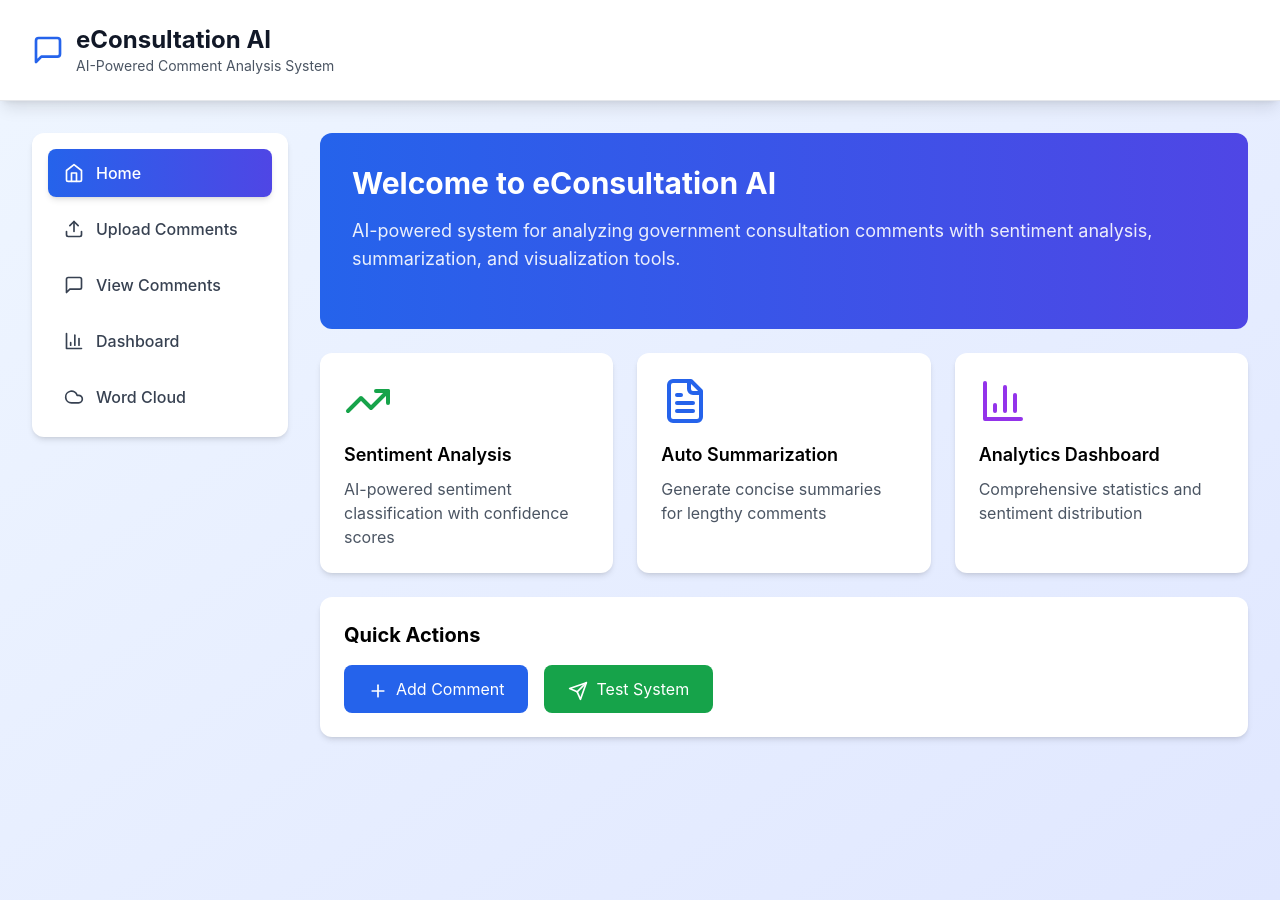
Test: Functionality Preservation Tests › Core Application Features › should preserve complete comment processing workflow
// Submit a test comment
Click the button "Test System" at (629, 689), box [544,665,713,713]
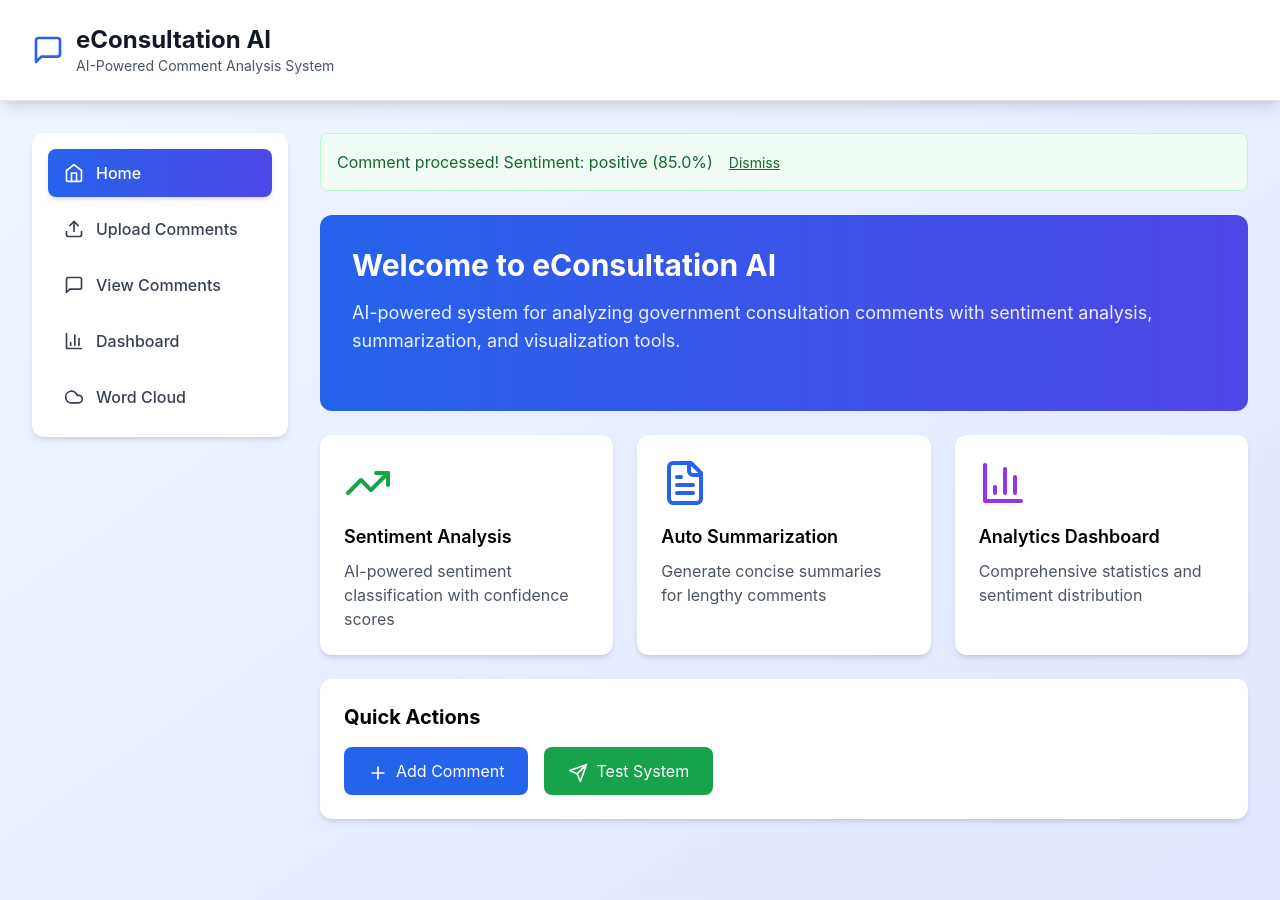
Expected: the text "Comment processed! Sentiment: positive (85.0%) Dismiss" is shown, [320,133,1248,191]
// Navigate to comments page and load comments
Click the button "View Comments" at (160, 285), box [48,261,272,309]
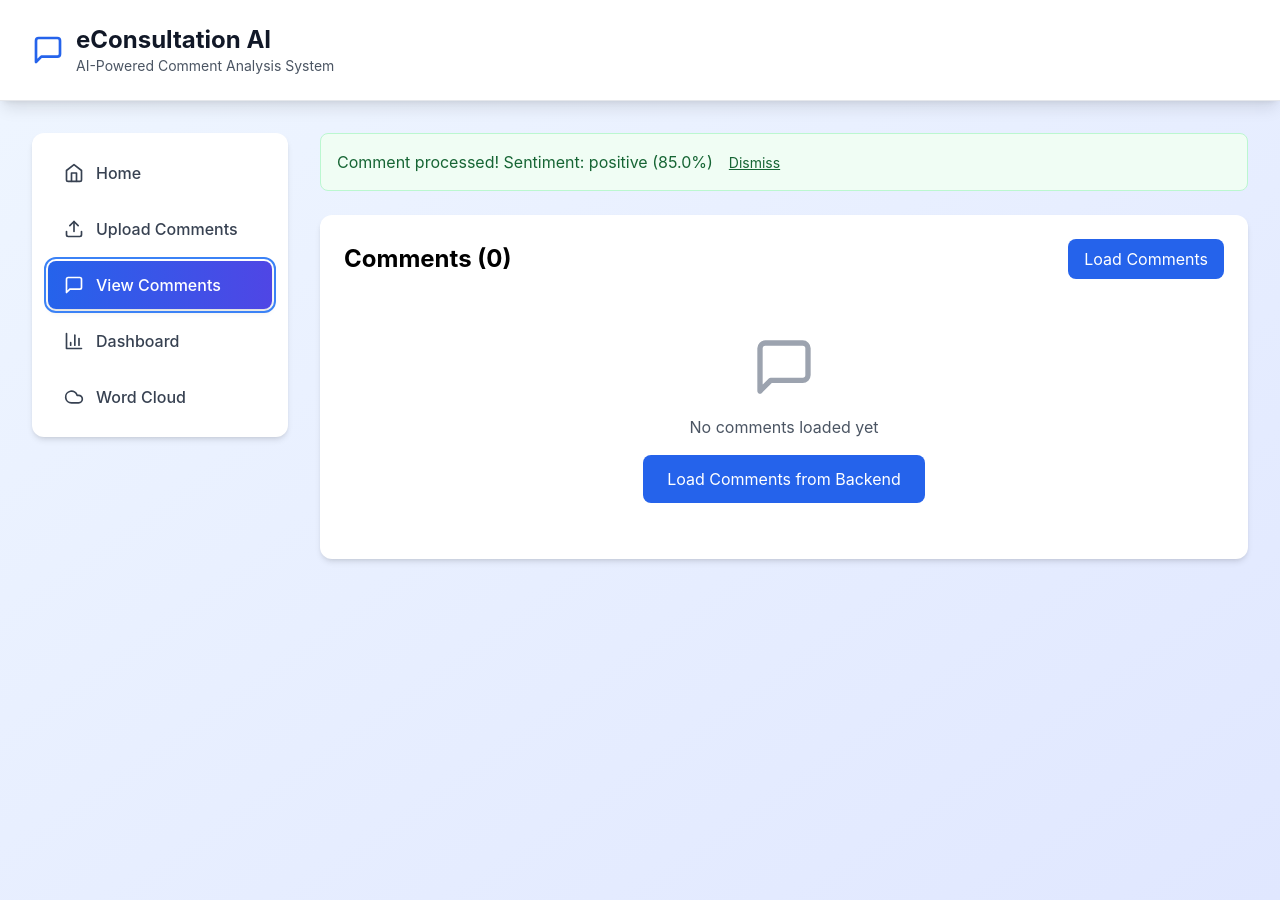
Click the button "Load Comments" at (1146, 259), box [1068,239,1224,279]
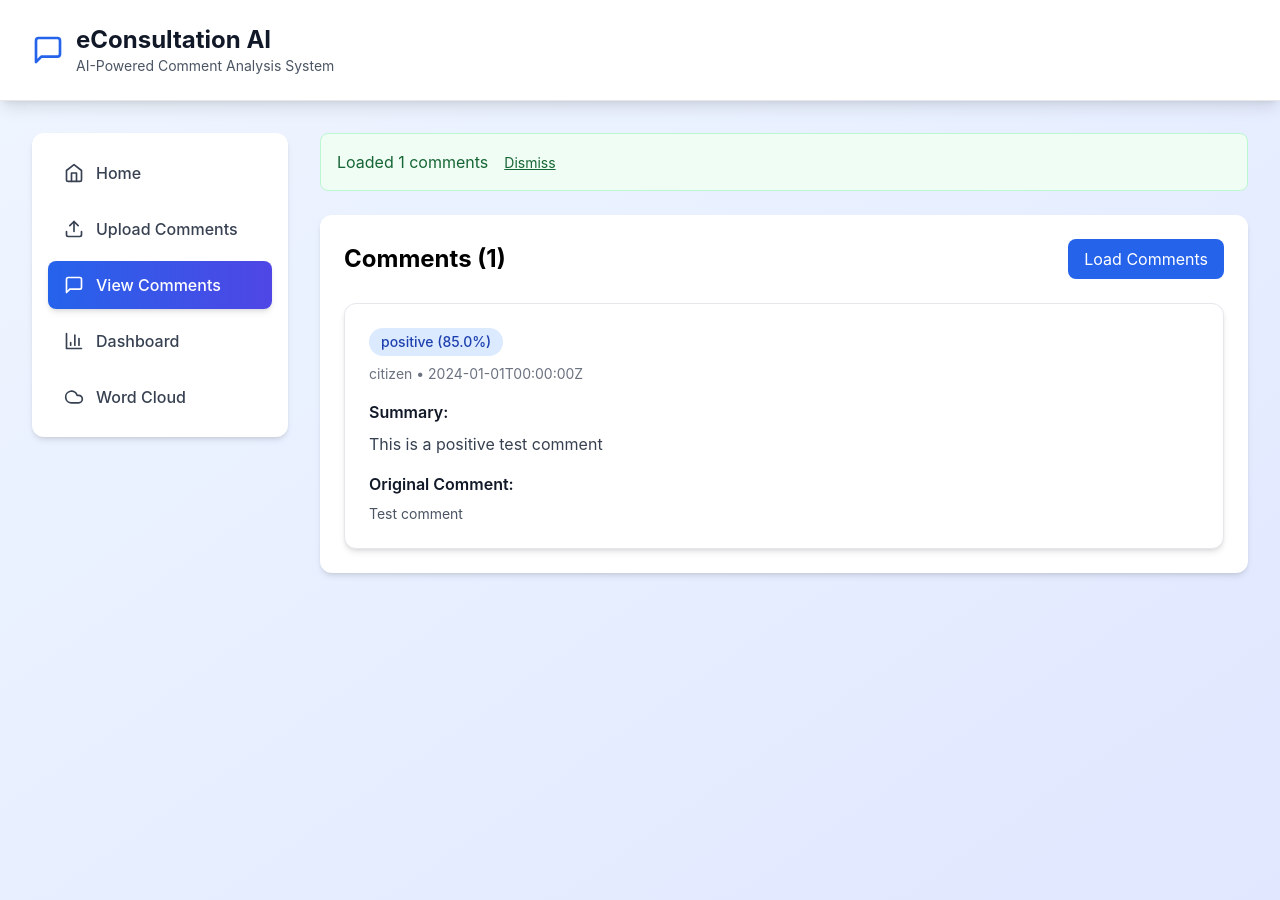
Expected: the text "This is a positive test comment" is shown, [369,434,603,454]
Expected: the text "Test comment" is shown, [369,505,463,522]
Expected: the heading "Comments (1)" is shown, [344,243,506,275]
